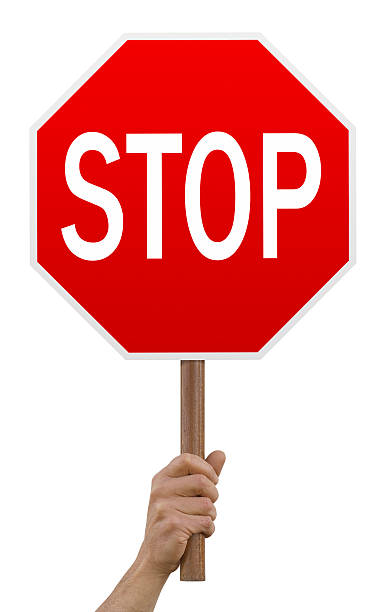Stop Signal: (25, 19, 369, 373)
